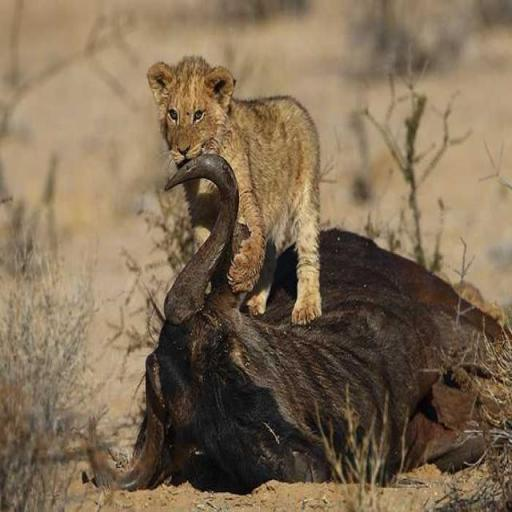Lion: (145, 52, 323, 326)
